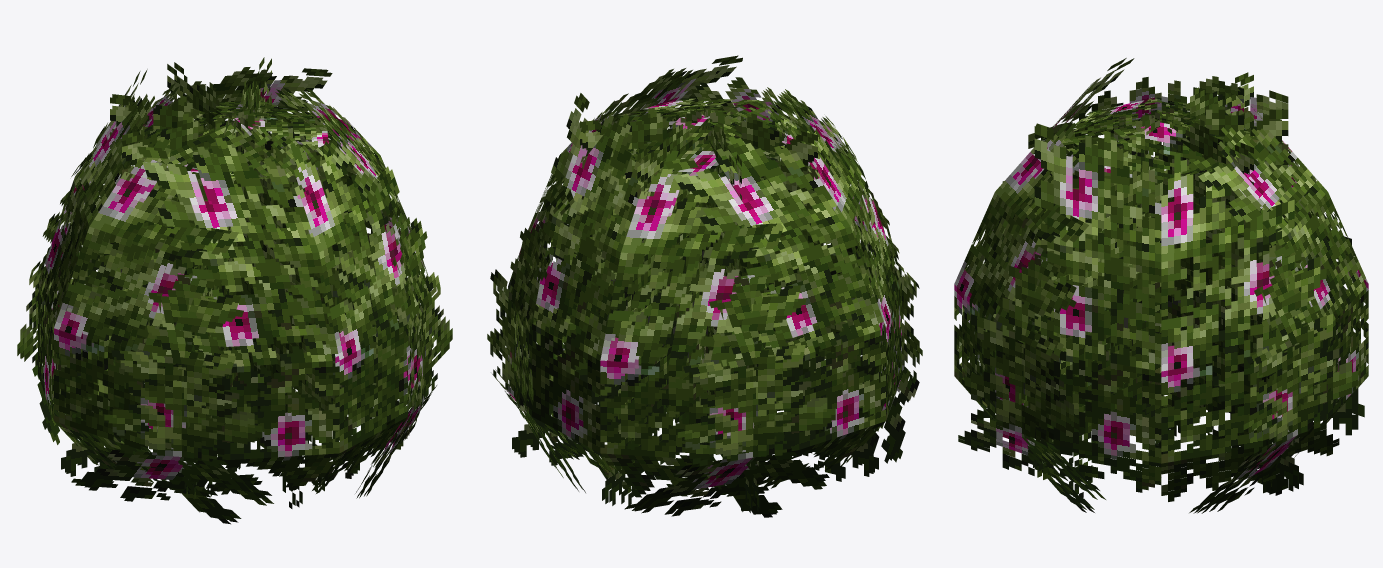
The model's file is bush03_spring2.glb.
3 views of the same model, side by side, from view 1: azimuth 30°, elevation 25°; view 2: azimuth 150°, elevation 25°; view 3: azimuth 270°, elevation 25° (orthographic).
Visible parts, largest first — view 1: bush03; view 2: bush03; view 3: bush03.
Boxes of the visible parts, bbox=[...] form: bush03: bbox=[17, 57, 452, 524]; bush03: bbox=[487, 55, 922, 517]; bush03: bbox=[954, 58, 1368, 513].
Bounding box in the file's own units: 1.53 × 1.5 × 1.53.
Materials: 1 (1 with a texture image).
